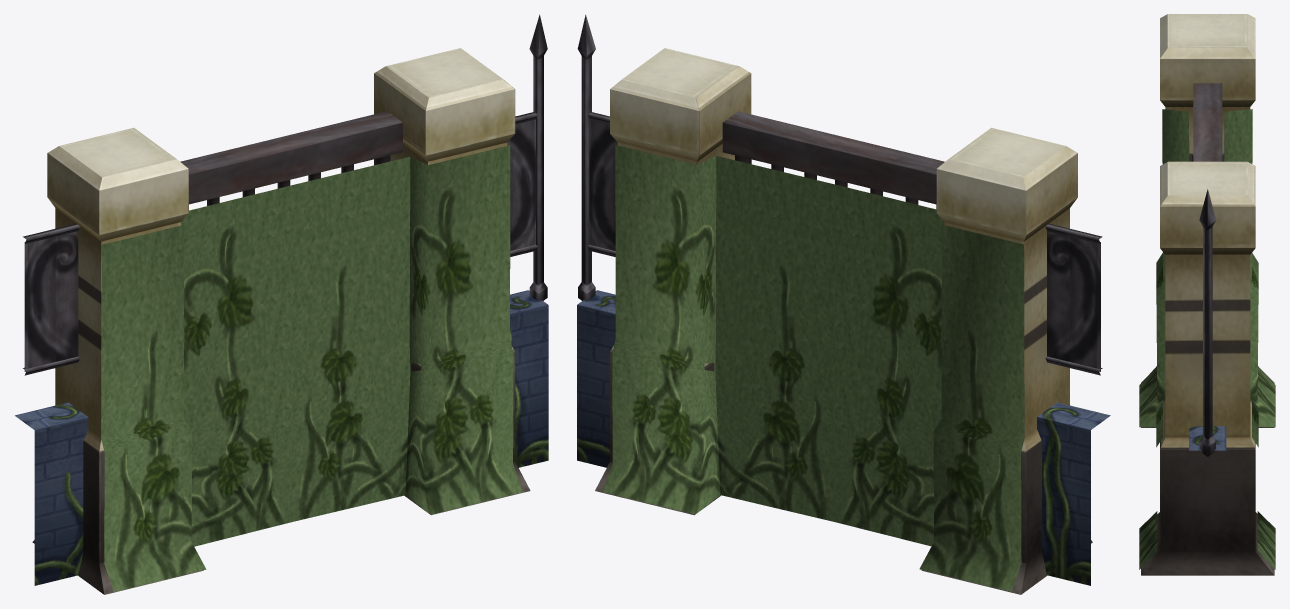
File: a_SWTgate02.glb
3 renders of one model, left to right at view 1: azimuth 30°, elevation 25°; view 2: azimuth 150°, elevation 25°; view 3: azimuth 270°, elevation 25°, orthographic. The views are drawn at different scales.
Visible parts, largest first — view 1: a_SWTgate02; view 2: a_SWTgate02; view 3: a_SWTgate02.
Part boxes in pixels (box(x1,y1,x2,y2)): a_SWTgate02: box(15, 14, 548, 594); a_SWTgate02: box(577, 14, 1110, 594); a_SWTgate02: box(1139, 14, 1275, 575).
Size of the model in its own units: 4.07 by 3.27 by 0.9933.
Materials: 7 (7 with a texture image).
